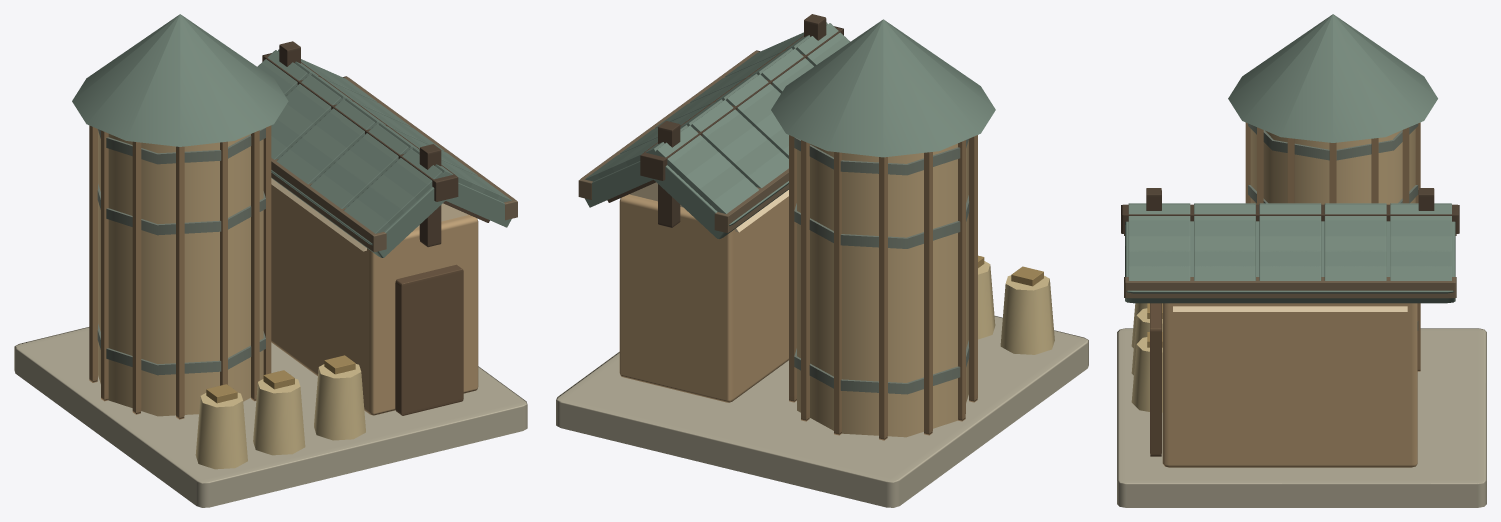
Rendered from granary-0.glb.
3 renders of one model, left to right at view 1: azimuth 30°, elevation 25°; view 2: azimuth 150°, elevation 25°; view 3: azimuth 270°, elevation 25°, orthographic. The views are drawn at different scales.
Parts seen in each view (by area): view 1: granary-0-0; view 2: granary-0-0; view 3: granary-0-0.
Part boxes in pixels (<box>): granary-0-0: <box>14,14,527,507</box>; granary-0-0: <box>556,14,1088,507</box>; granary-0-0: <box>1117,14,1486,507</box>.
Size of the model in its own units: 1.92 by 2.16 by 1.9.
